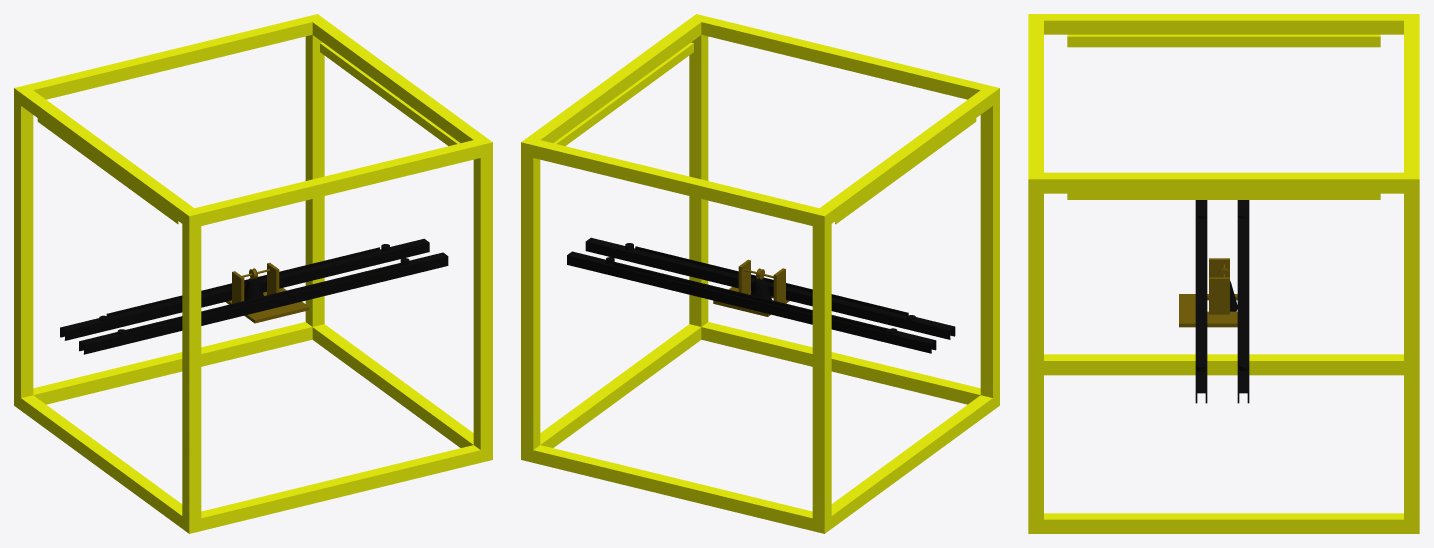
File: 3dcrane.FBX
The picture shows the model from 3 angles, left to right: view 1: azimuth 30°, elevation 25°; view 2: azimuth 150°, elevation 25°; view 3: azimuth 270°, elevation 25°; orthographic projection. The views are drawn at different scales.
Visible parts, largest first — view 1: static_frame, rail, cart; view 2: static_frame, rail, cart; view 3: static_frame, rail, cart.
Boxes of the visible parts, bbox=[...] form: static_frame: bbox=[14, 14, 492, 533]; rail: bbox=[60, 238, 448, 354]; cart: bbox=[226, 262, 309, 323]; static_frame: bbox=[521, 14, 999, 533]; rail: bbox=[567, 237, 955, 353]; cart: bbox=[713, 259, 789, 316]; static_frame: bbox=[1028, 14, 1419, 533]; rail: bbox=[1195, 200, 1249, 403]; cart: bbox=[1179, 258, 1237, 327].
Size of the model in its own units: 120 by 100 by 100.
